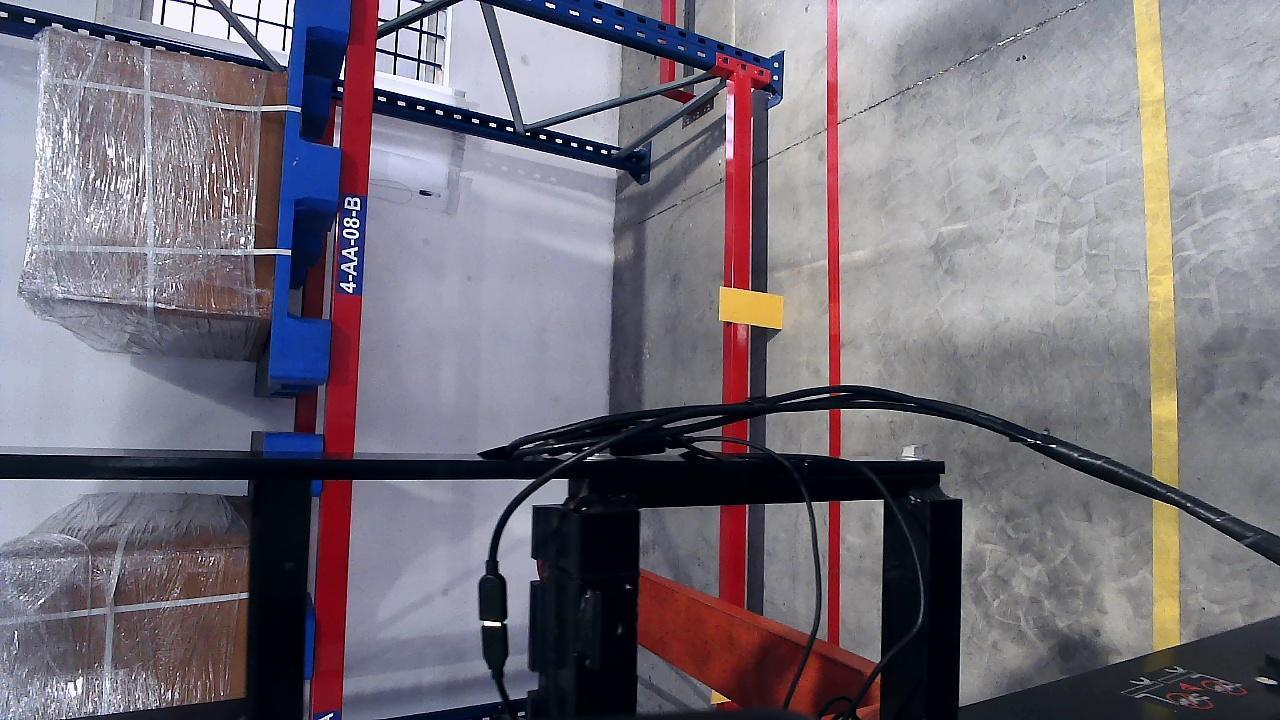red_line: (819, 0, 844, 644)
yellow_line: (1129, 0, 1181, 654)
